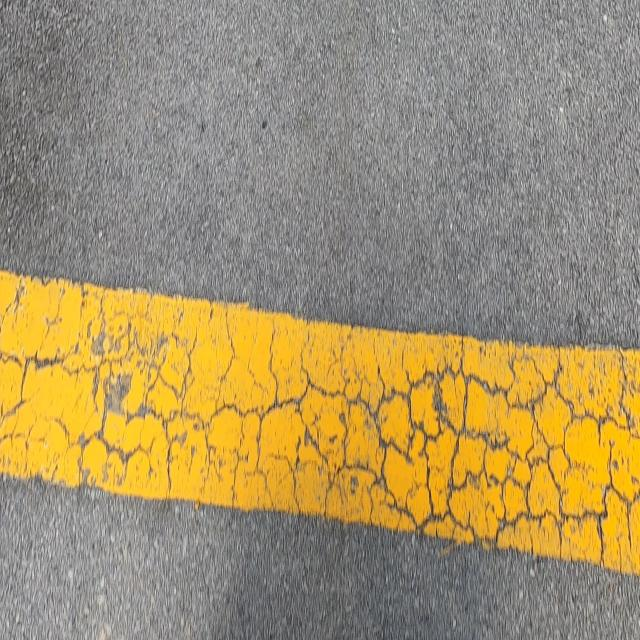Retak-Buaya: (0, 269, 640, 580)
